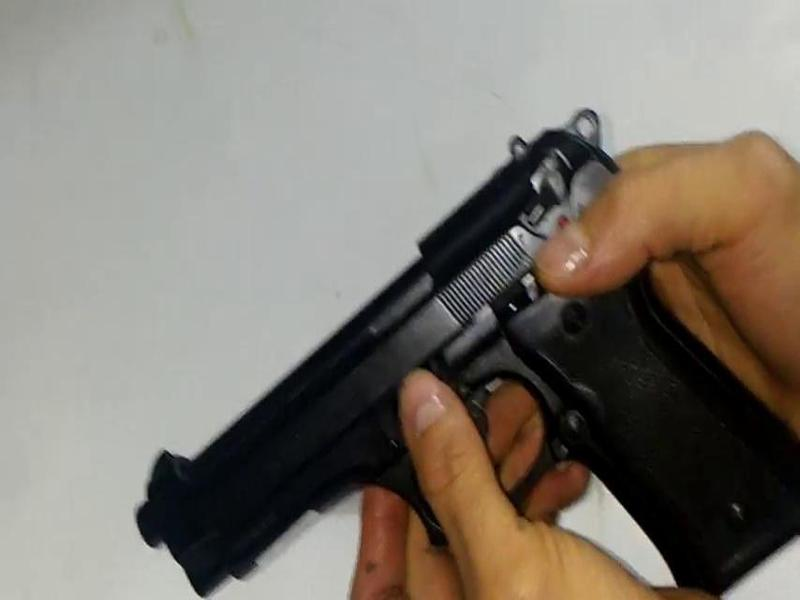Pistola: (117, 93, 769, 578)
